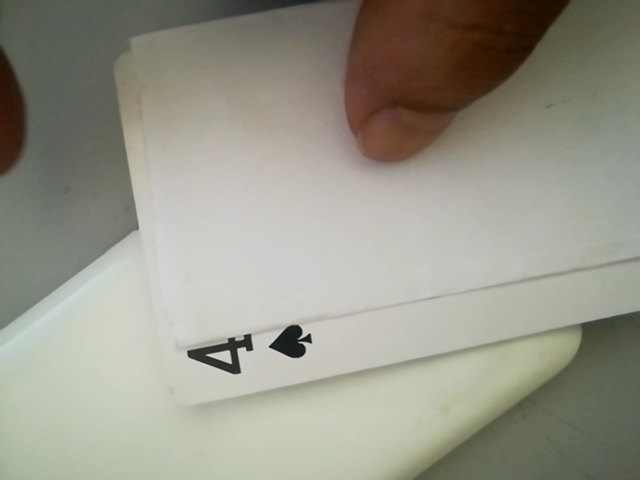ht 4: (160, 314, 337, 389)
